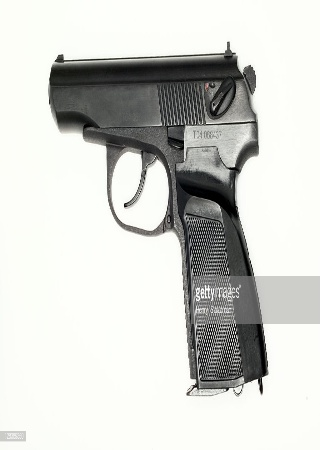handgun: (48, 46, 271, 398)
